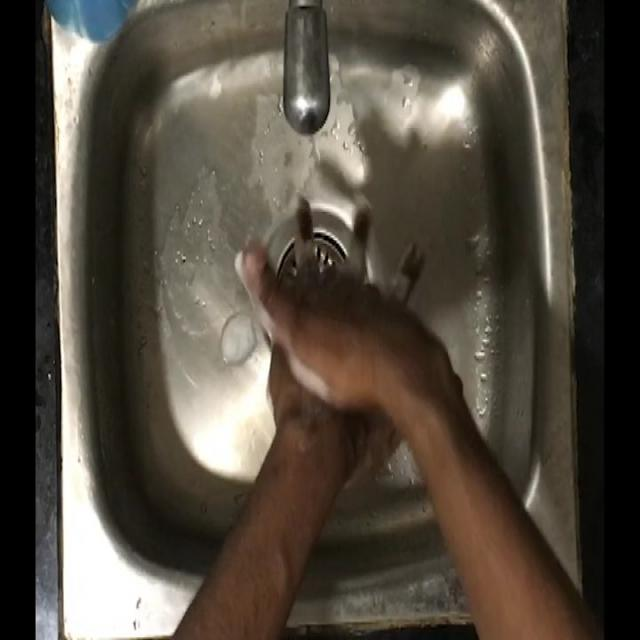step_2: (232, 182, 444, 440)
